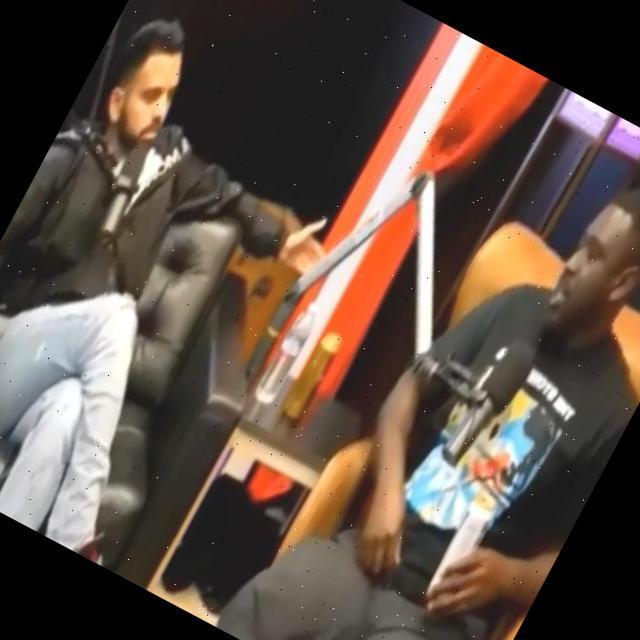person: (217, 122, 640, 640), (0, 10, 311, 553)
